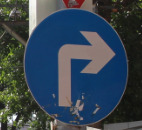right_turn: (24, 8, 128, 126)
